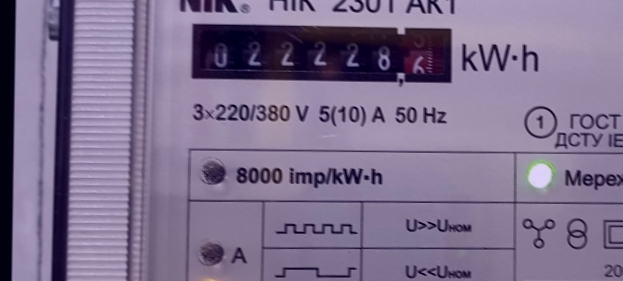0: (211, 39, 228, 68)
2: (244, 37, 263, 67), (310, 38, 328, 66), (278, 38, 295, 67), (344, 40, 361, 68)
5: (410, 28, 426, 49)
6: (410, 52, 426, 73)
8: (375, 43, 391, 71)
screen: (183, 11, 461, 91)
